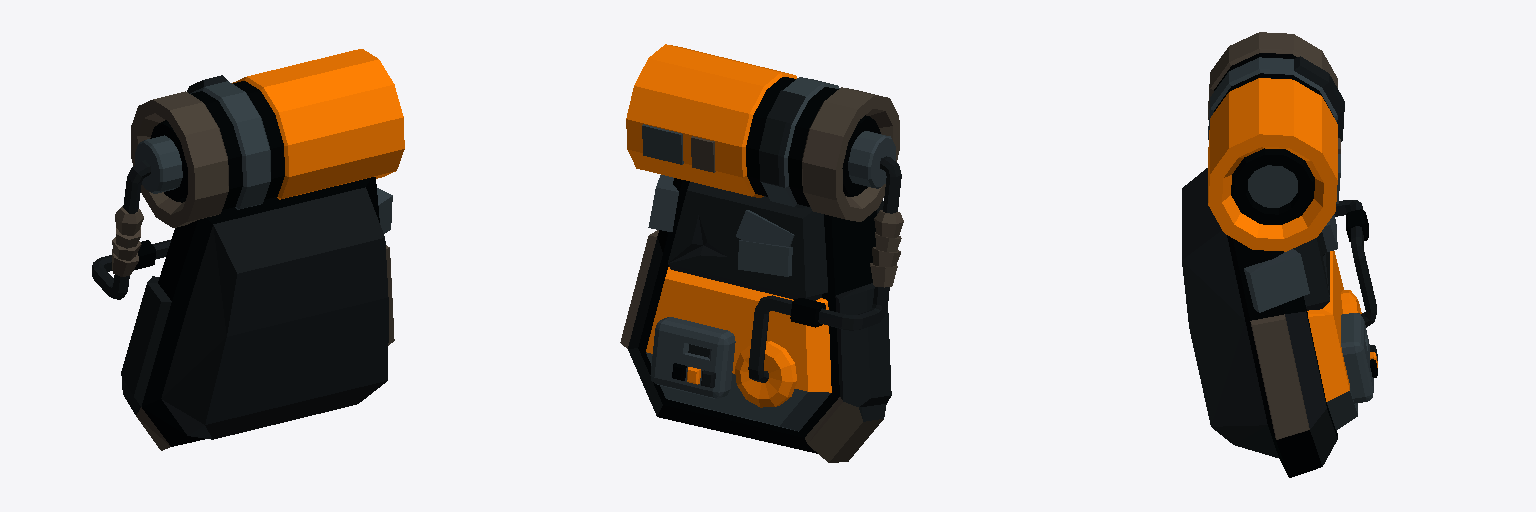
Rendered from scrapbot_backpack.obj.
3 views of the same model, side by side, from view 1: azimuth 30°, elevation 25°; view 2: azimuth 150°, elevation 25°; view 3: azimuth 270°, elevation 25° (orthographic).
Parts seen in each view (by area): view 1: scrapbot_backpack_Cube.526; view 2: scrapbot_backpack_Cube.526; view 3: scrapbot_backpack_Cube.526.
Part boxes in pixels (x1,y1,x2,y2): scrapbot_backpack_Cube.526: (92, 49, 404, 450); scrapbot_backpack_Cube.526: (620, 44, 903, 462); scrapbot_backpack_Cube.526: (1182, 32, 1377, 477).
Size of the model in its own units: 0.6878 by 0.859 by 0.427.